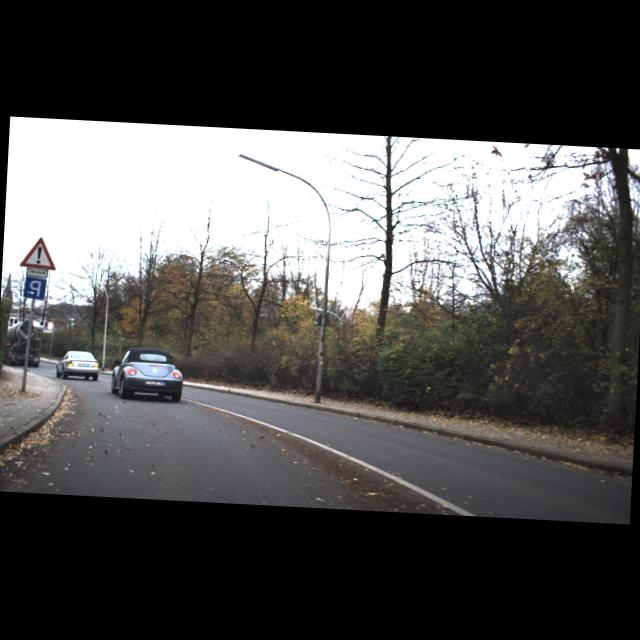danger: (20, 234, 58, 270)
